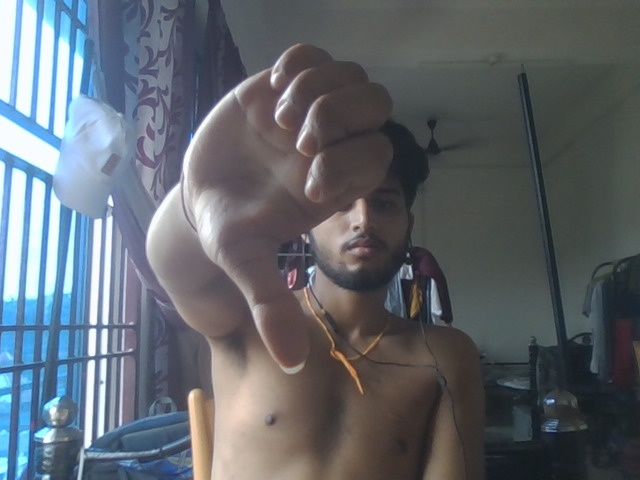Loser: (180, 38, 413, 377)
